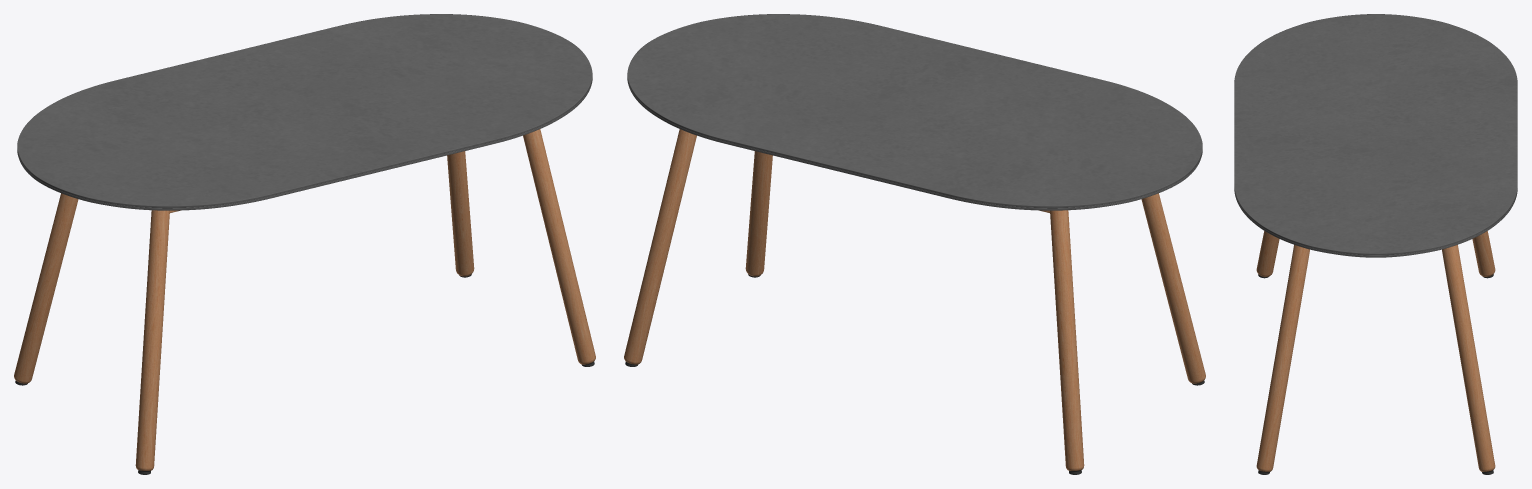
3 renders of one model, left to right at view 1: azimuth 30°, elevation 25°; view 2: azimuth 150°, elevation 25°; view 3: azimuth 270°, elevation 25°, orthographic. The views are drawn at different scales.
Visible parts, largest first — view 1: Gray; view 2: Gray; view 3: Gray.
Boxes of the visible parts, x1,y1,x2,y2 form: Gray: (14, 14, 595, 474); Gray: (624, 14, 1205, 474); Gray: (1234, 14, 1517, 474).
Bounding box in the file's own units: 1.6 × 0.75 × 0.8.
Materials: 1 (1 with a texture image).
